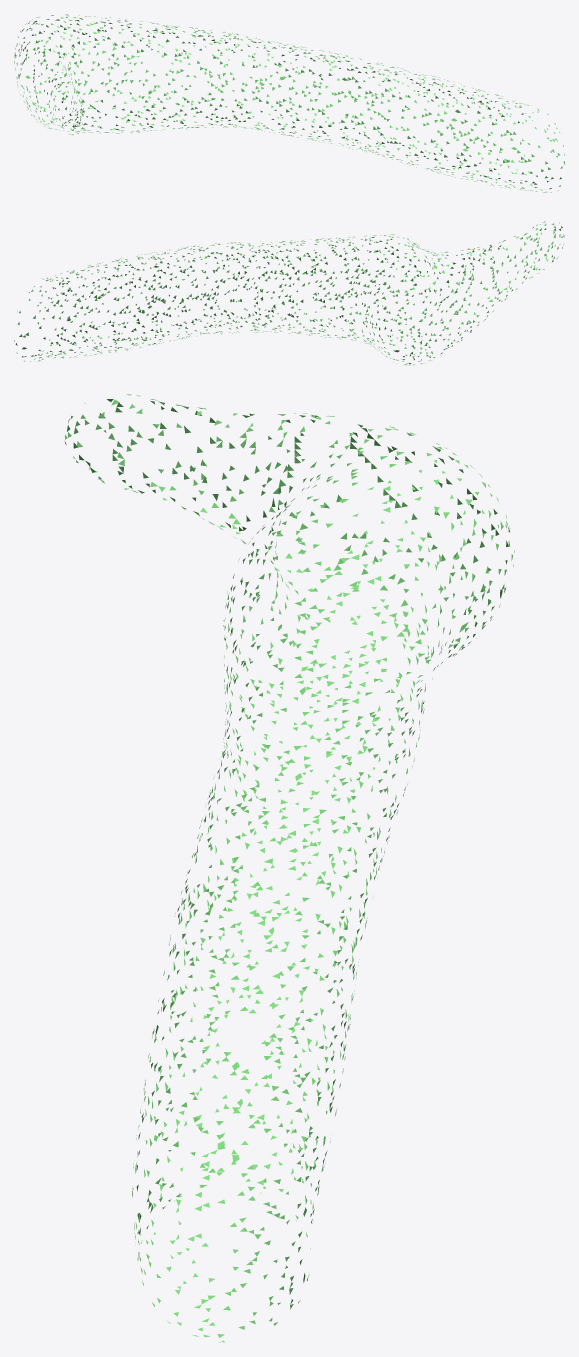
File: morph_017.glb
The picture shows the model from 3 angles, top to bottom: view 1: azimuth 30°, elevation 25°; view 2: azimuth 150°, elevation 25°; view 3: azimuth 270°, elevation 25°; orthographic projection. The views are drawn at different scales.
Size of the model in its own units: 109 by 50.25 by 42.84.
